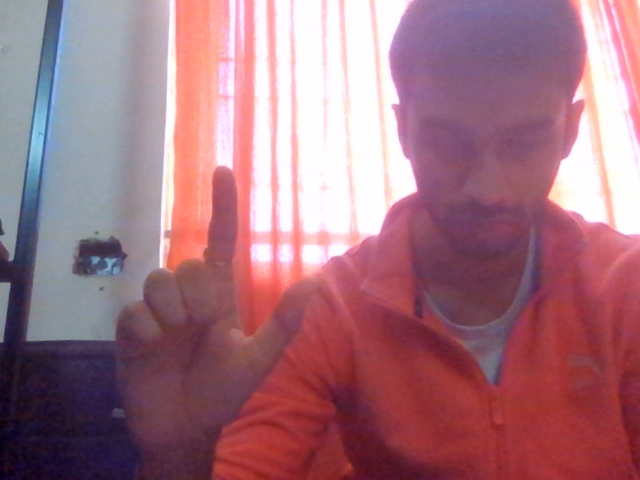L: (52, 126, 380, 480)
